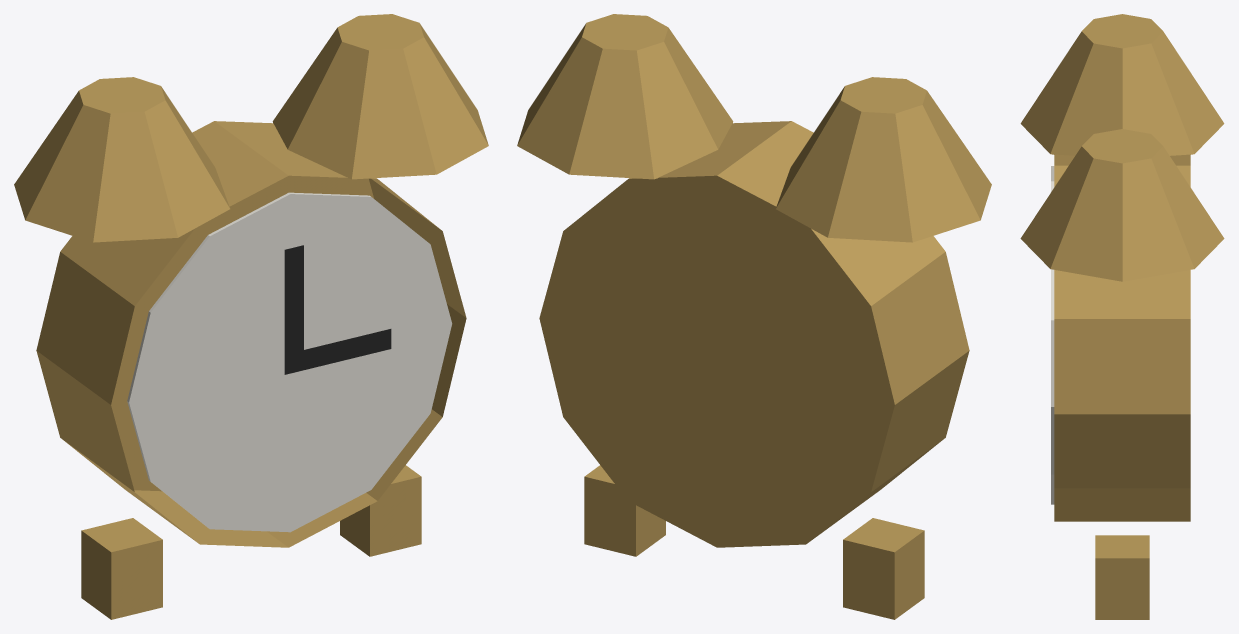
The model's file is alarm_clock.gltf.
3 views of the same model, side by side, from view 1: azimuth 30°, elevation 25°; view 2: azimuth 150°, elevation 25°; view 3: azimuth 270°, elevation 25° (orthographic). The views are drawn at different scales.
Parts seen in each view (by area): view 1: Mesh; view 2: Mesh; view 3: Mesh.
Boxes of the visible parts, bbox=[...] form: Mesh: bbox=[14, 14, 488, 619]; Mesh: bbox=[517, 14, 991, 619]; Mesh: bbox=[1020, 14, 1224, 619].
Bounding box in the file's own units: 0.14 × 0.15 × 0.06.
